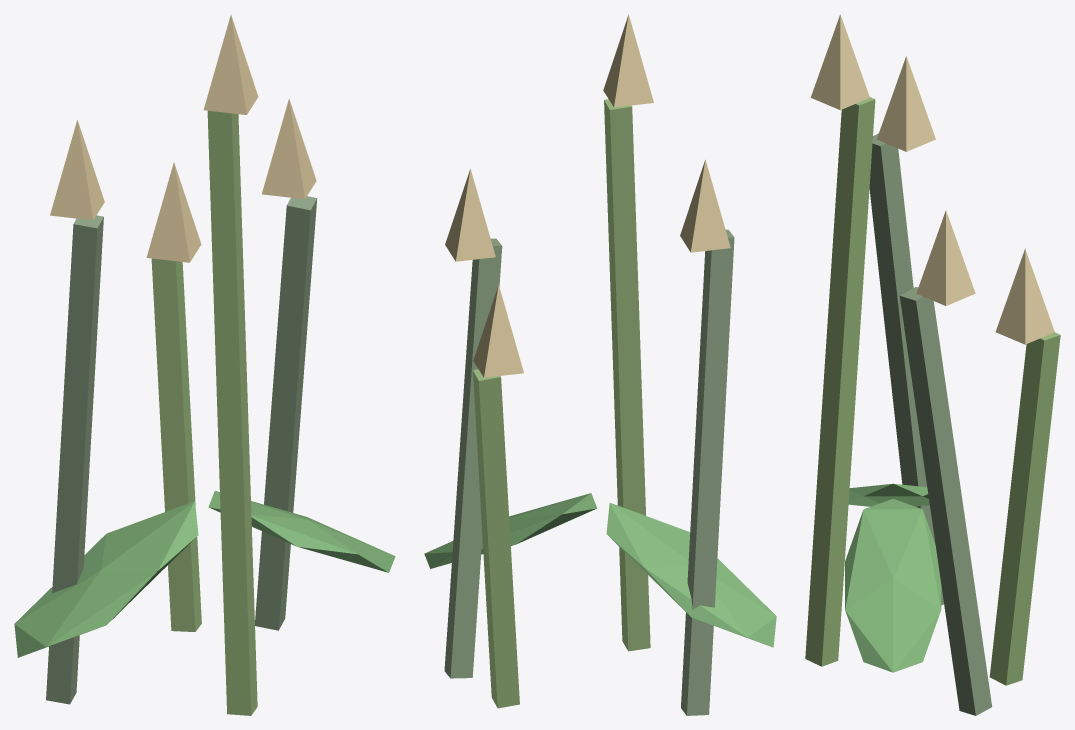
File: reed.glb
3 views of the same model, side by side, from view 1: azimuth 30°, elevation 25°; view 2: azimuth 150°, elevation 25°; view 3: azimuth 270°, elevation 25° (orthographic). The views are drawn at different scales.
Parts seen in each view (by area): view 1: stem_1, stem_0, stem_2, blade_0.001, stem_3, blade_1.001, seed_2, seed_3, seed_0, seed_1; view 2: stem_1, stem_0, stem_2, stem_3, blade_0.001, blade_1.001, seed_2, seed_3, seed_0, seed_1; view 3: stem_1, stem_2, blade_1.001, stem_3, stem_0, seed_2, seed_3, seed_1, seed_0, blade_0.001.
Part boxes in pixels (x1,y1,x2,y2): stem_1: [207, 110, 257, 715]; stem_0: [46, 215, 103, 704]; stem_2: [255, 196, 317, 630]; blade_0.001: [14, 501, 198, 657]; stem_3: [151, 258, 201, 631]; blade_1.001: [208, 491, 395, 572]; seed_2: [262, 98, 316, 199]; seed_3: [146, 162, 201, 262]; seed_0: [50, 120, 104, 220]; seed_1: [203, 15, 258, 114]; stem_1: [604, 99, 650, 651]; stem_0: [681, 229, 734, 715]; stem_2: [444, 238, 502, 678]; stem_3: [473, 369, 519, 708]; blade_0.001: [606, 503, 776, 647]; blade_1.001: [424, 493, 597, 568]; seed_2: [445, 168, 495, 261]; seed_3: [473, 285, 523, 377]; seed_0: [680, 159, 730, 252]; seed_1: [603, 14, 653, 107]; stem_1: [805, 97, 875, 666]; stem_2: [899, 287, 992, 715]; blade_1.001: [845, 499, 941, 672]; stem_3: [989, 332, 1060, 685]; stem_0: [869, 133, 943, 605]; seed_2: [916, 210, 975, 305]; seed_3: [995, 248, 1054, 344]; seed_1: [811, 14, 869, 110]; seed_0: [876, 56, 935, 151]; blade_0.001: [848, 483, 929, 506].
Size of the model in its own units: 0.6183 by 1.08 by 0.387.
